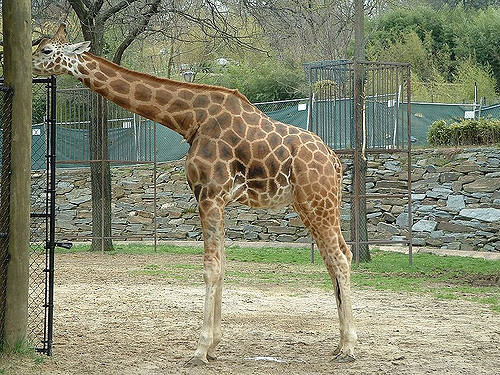giraffe: (26, 27, 364, 366)
